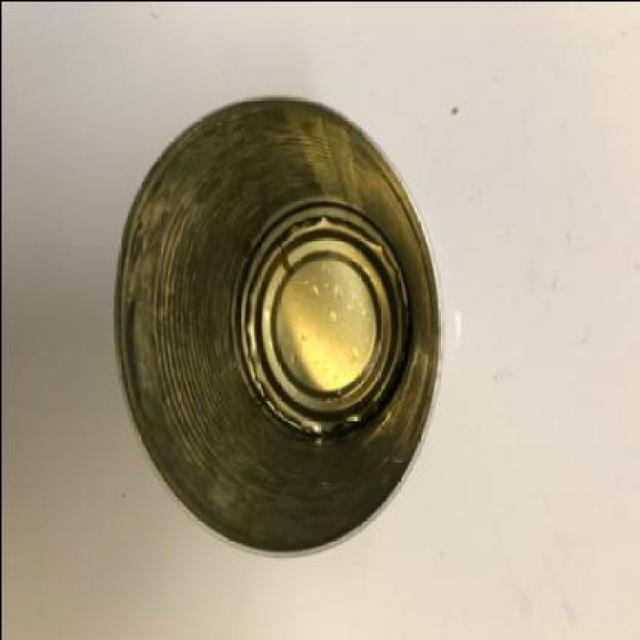METAL: (114, 96, 443, 558)
